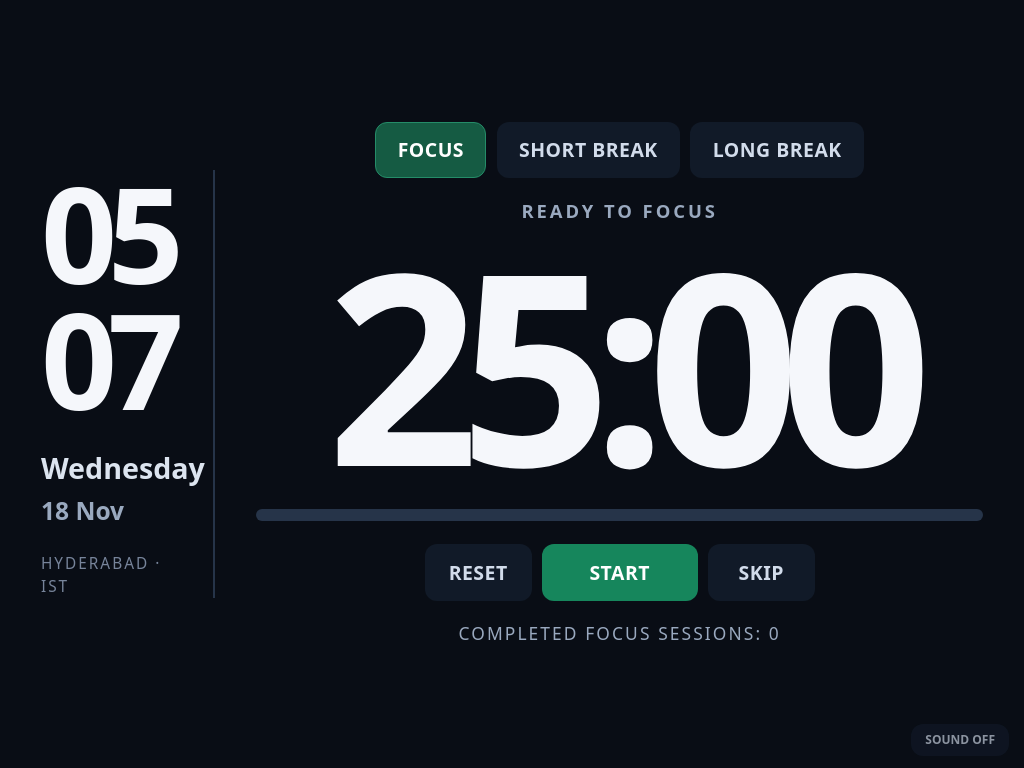
Timer › starts, pauses and switches modes
This screenshot has width=1024, height=768.
Expected: the text "25:00" is shown, [327,181,912,544]
Click the button "START" at (620, 573), box [542,544,698,601]
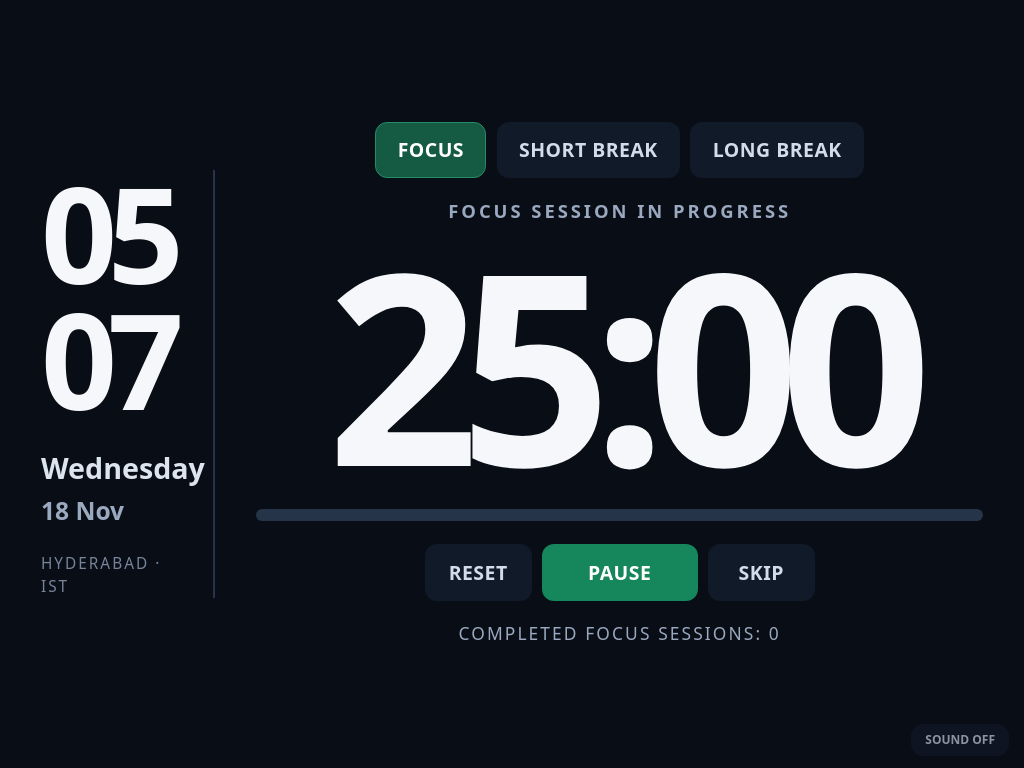
Expected: the button "PAUSE" is shown, [542,544,698,601]
Expected: the text "FOCUS SESSION IN PROGRESS" is shown, [448,198,791,224]
Click the button "SHORT BREAK" at (588, 150), box [497,122,680,178]
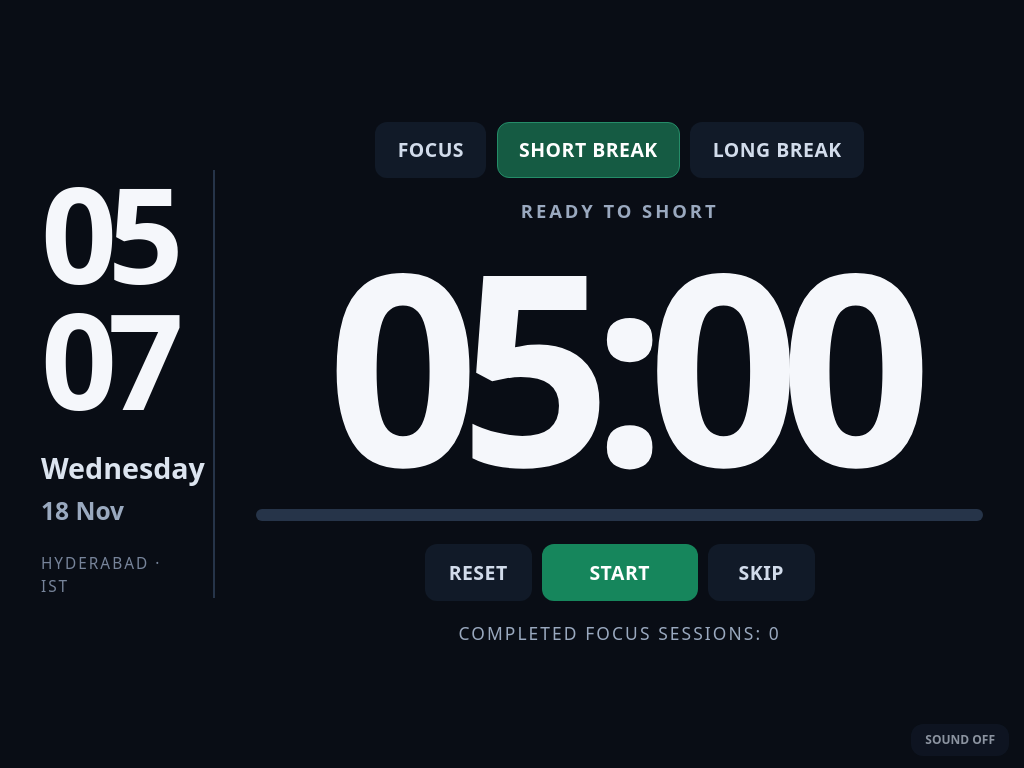
Expected: the text "05:00" is shown, [327,181,912,544]
Expected: the button "START" is shown, [542,544,698,601]
